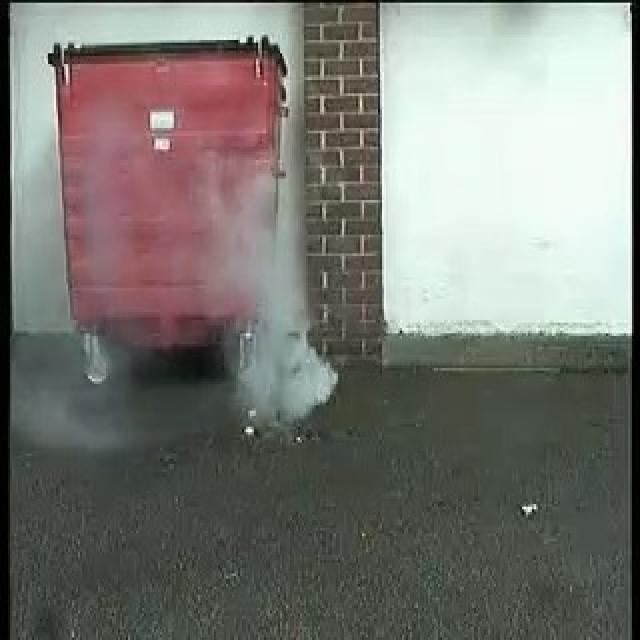smoke: (226, 176, 341, 414)
